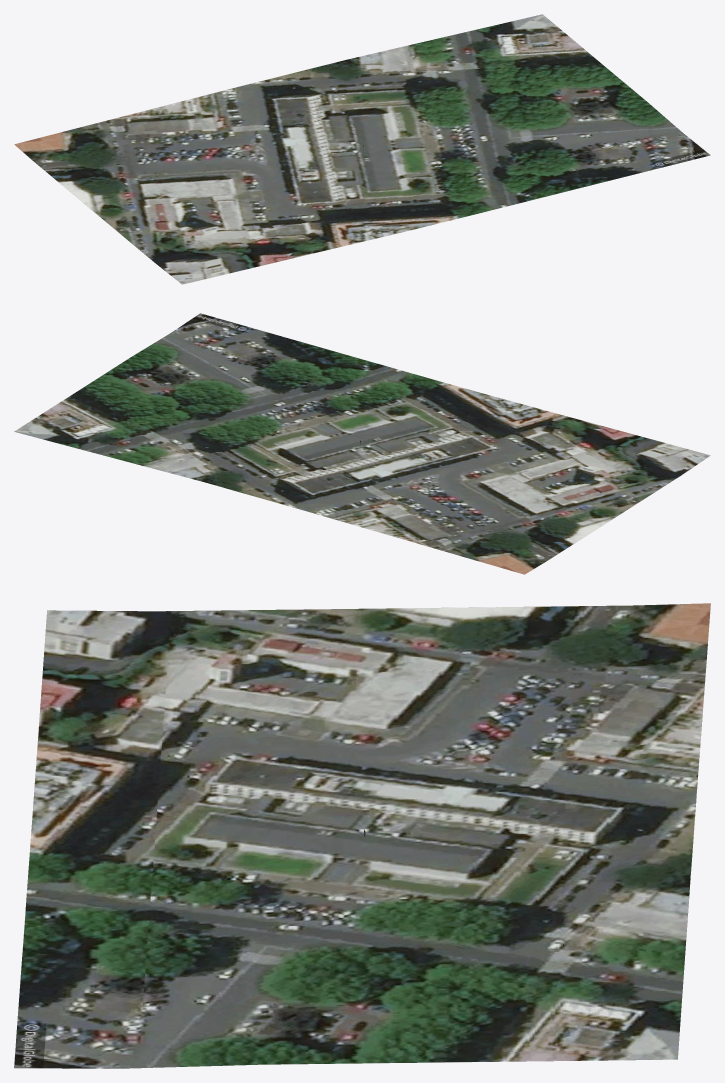
The model's file is poste.fbx.
3 views of the same model, one above another, from view 1: azimuth 30°, elevation 25°; view 2: azimuth 150°, elevation 25°; view 3: azimuth 270°, elevation 25° (orthographic). The views are drawn at different scales.
Parts seen in each view (by area): view 1: Location_Terrain; view 2: Location_Terrain; view 3: Location_Terrain.
Part boxes in pixels (x1,y1,x2,y2): Location_Terrain: [14, 14, 710, 284]; Location_Terrain: [14, 313, 710, 574]; Location_Terrain: [14, 603, 710, 1068].
Size of the model in its own units: 216 by 7.04 by 132.
